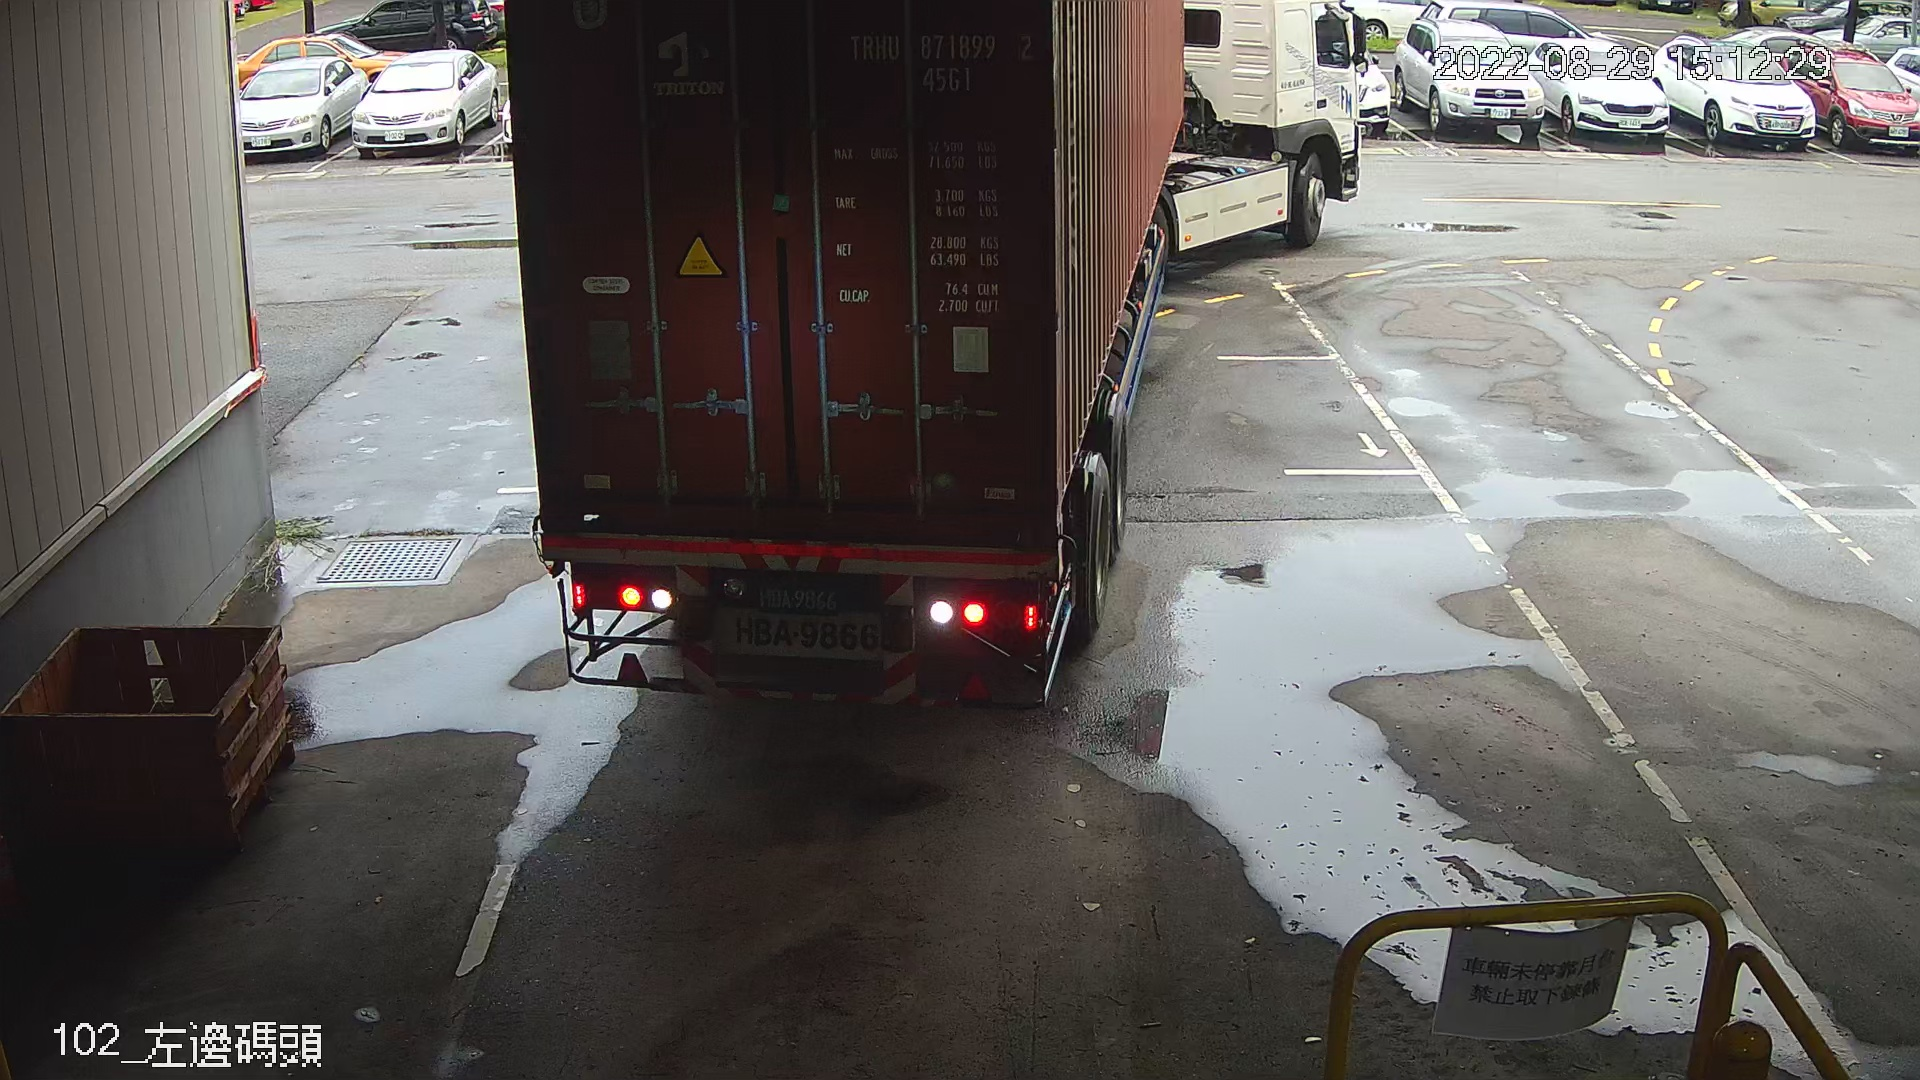container: (843, 22, 1044, 102)
